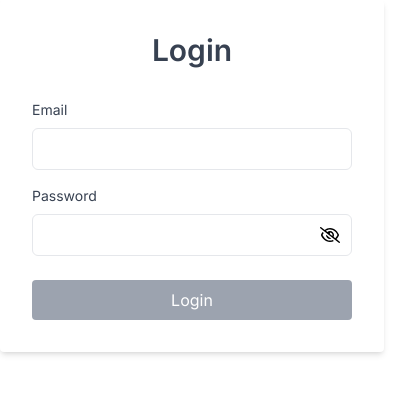
Test case: Signinコンポーネント › パスワードが6文字未満の場合、エラーメッセージが表示され、signinボタンを押せないこと
This screenshot has width=402, height=393.
Type "test@example.com" into the field labelled "Email" at {"x": 192, "y": 149}, box [32,128,352,170]
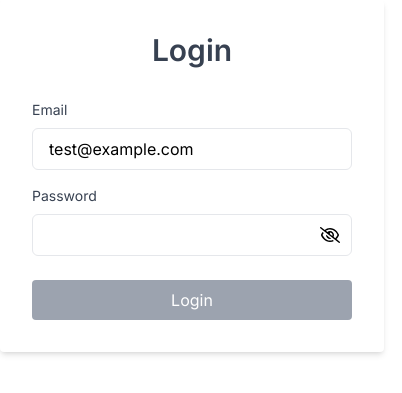
Type "pass" into the password field labelled "Password" at {"x": 192, "y": 235}, box [32,214,352,256]
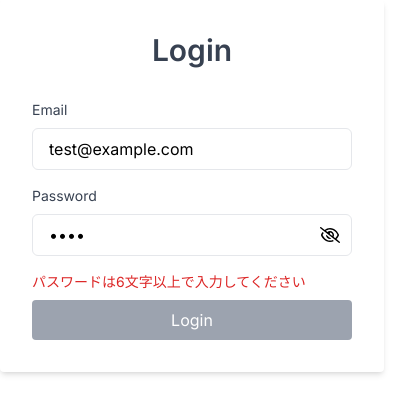
Expected: the button "Login" is disabled, [32,300,352,340]
Expected: the text "パスワードは6文字以上で入力してください" is shown, [32,272,352,292]
